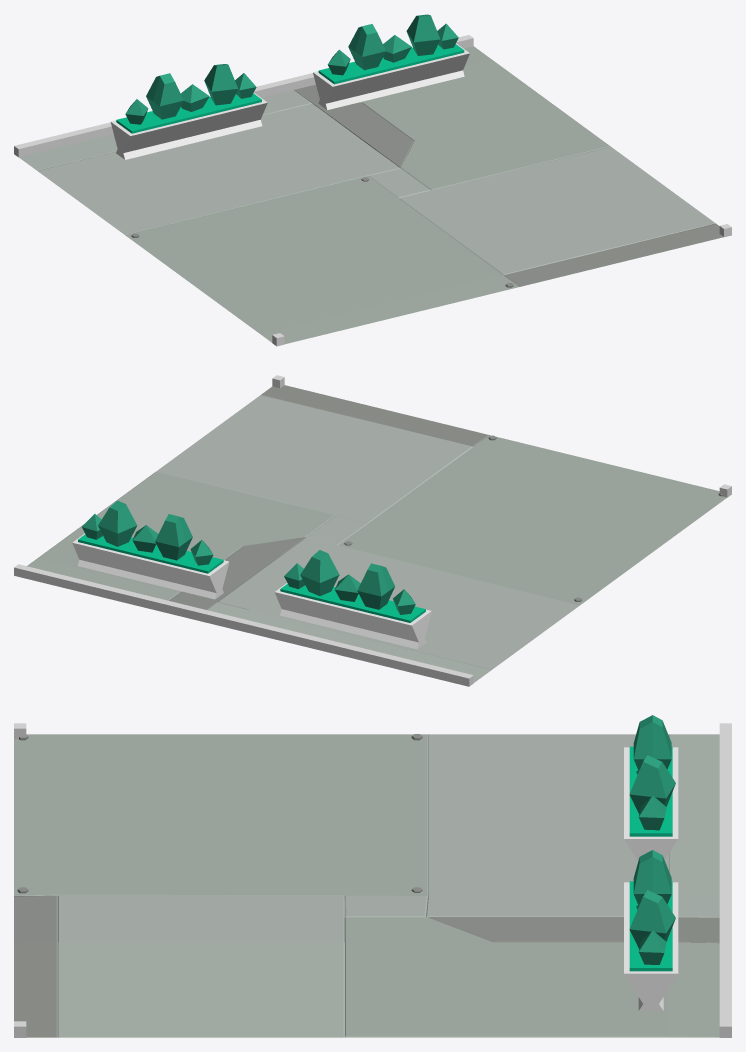
3 renders of one model, top to bottom at view 1: azimuth 30°, elevation 25°; view 2: azimuth 150°, elevation 25°; view 3: azimuth 270°, elevation 25°, orthographic. The views are drawn at different scales.
Visible parts, largest first — view 1: Scifi_Panel_04_Plaza014_group4.042_Scifi_Panel_04_Plaza014_g, base_pot.023_base_pot.027, base_pot.022_base_pot.026, Cube.1143_Cube.1272; view 2: Scifi_Panel_04_Plaza014_group4.042_Scifi_Panel_04_Plaza014_g, base_pot.023_base_pot.027, base_pot.022_base_pot.026, Cube.1143_Cube.1272; view 3: Scifi_Panel_04_Plaza014_group4.042_Scifi_Panel_04_Plaza014_g, base_pot.022_base_pot.026, base_pot.023_base_pot.027, Cube.1143_Cube.1272.
Boxes of the visible parts, x1,y1,x2,y2 form: Scifi_Panel_04_Plaza014_group4.042_Scifi_Panel_04_Plaza014_g: [19, 46, 723, 344]; base_pot.023_base_pot.027: [110, 64, 267, 159]; base_pot.022_base_pot.026: [313, 14, 469, 109]; Cube.1143_Cube.1272: [14, 35, 473, 157]; Scifi_Panel_04_Plaza014_group4.042_Scifi_Panel_04_Plaza014_g: [27, 385, 726, 682]; base_pot.023_base_pot.027: [274, 550, 431, 649]; base_pot.022_base_pot.026: [72, 500, 229, 599]; Cube.1143_Cube.1272: [14, 564, 473, 686]; Scifi_Panel_04_Plaza014_group4.042_Scifi_Panel_04_Plaza014_g: [14, 734, 719, 1037]; base_pot.022_base_pot.026: [624, 850, 678, 1010]; base_pot.023_base_pot.027: [624, 715, 678, 860]; Cube.1143_Cube.1272: [719, 723, 731, 1037].
Size of the model in its own units: 10 by 1.51 by 10.
